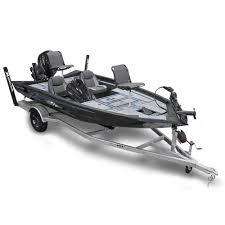boat: (3, 49, 220, 187)
